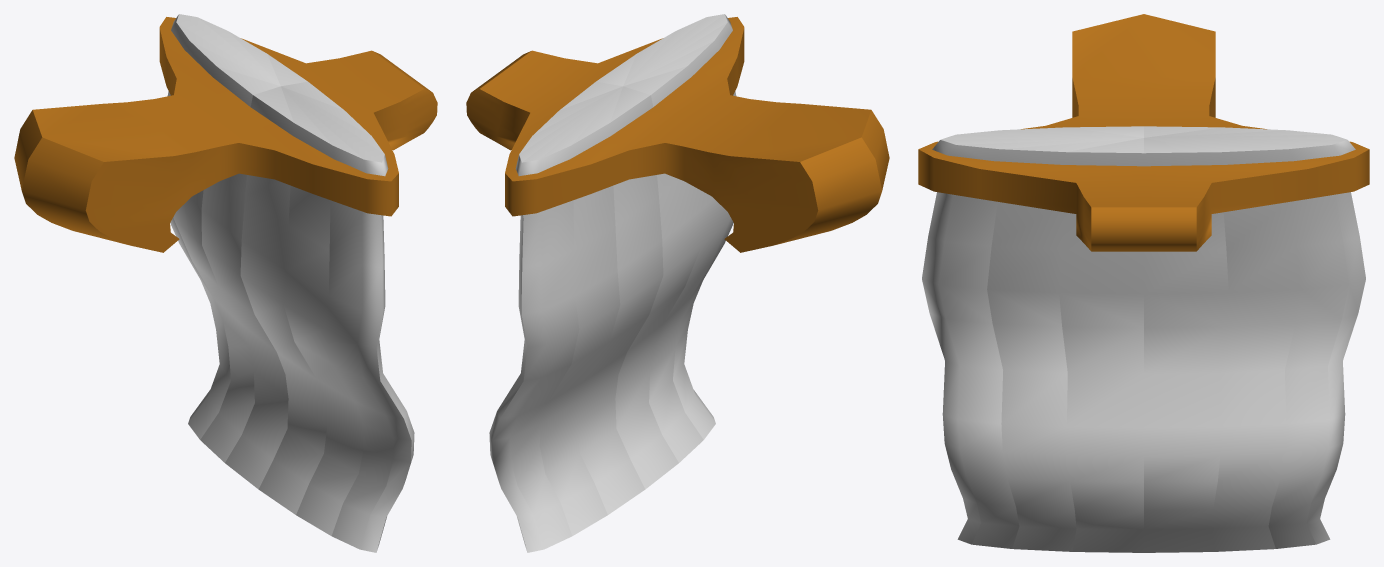
The model's file is axe_bronze.glb.
3 views of the same model, side by side, from view 1: azimuth 30°, elevation 25°; view 2: azimuth 150°, elevation 25°; view 3: azimuth 270°, elevation 25° (orthographic).
Parts seen in each view (by area): view 1: Axe_Bronze; view 2: Axe_Bronze; view 3: Axe_Bronze.
Boxes of the visible parts, left/top/right/bottom form: Axe_Bronze: left=14, top=14, right=437, bottom=552; Axe_Bronze: left=466, top=14, right=889, bottom=552; Axe_Bronze: left=918, top=14, right=1369, bottom=552.
Bounding box in the file's own units: 1 × 1 × 1.
